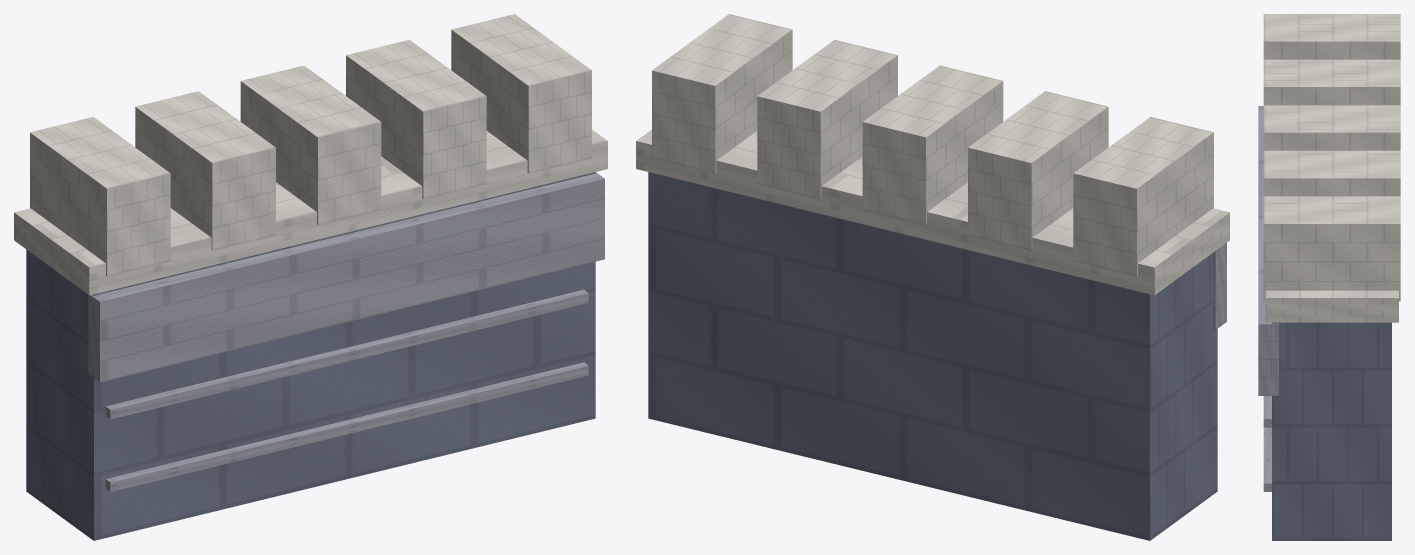
Rendered from high_crown_wall.obj.
3 views of the same model, side by side, from view 1: azimuth 30°, elevation 25°; view 2: azimuth 150°, elevation 25°; view 3: azimuth 270°, elevation 25° (orthographic). The views are drawn at different scales.
Parts seen in each view (by area): view 1: high_crown_wall; view 2: high_crown_wall; view 3: high_crown_wall.
Part boxes in pixels (box(x1,y1,x2,y2)): high_crown_wall: box(14, 14, 607, 540); high_crown_wall: box(636, 14, 1229, 540); high_crown_wall: box(1258, 14, 1400, 540).
Bounding box in the file's own units: 6.2 × 4.04 × 1.66.
3 materials, 3 textured.
